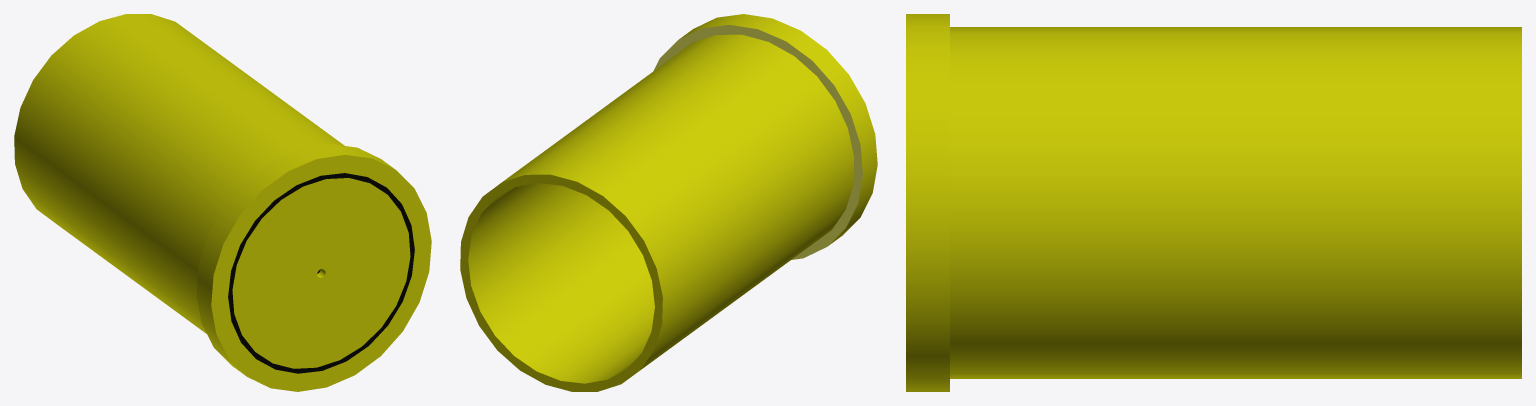
File: BULLET_CASING.fbx
3 renders of one model, left to right at view 1: azimuth 30°, elevation 25°; view 2: azimuth 150°, elevation 25°; view 3: azimuth 270°, elevation 25°, orthographic. The views are drawn at different scales.
Visible parts, largest first — view 1: Model; view 2: Model; view 3: Model.
Part boxes in pixels (x1=…): Model: x1=14, y1=14, x2=431, y2=391; Model: x1=460, y1=14, x2=877, y2=391; Model: x1=906, y1=14, x2=1521, y2=391.
Size of the model in its own units: 0.2597 by 0.2597 by 0.42.
